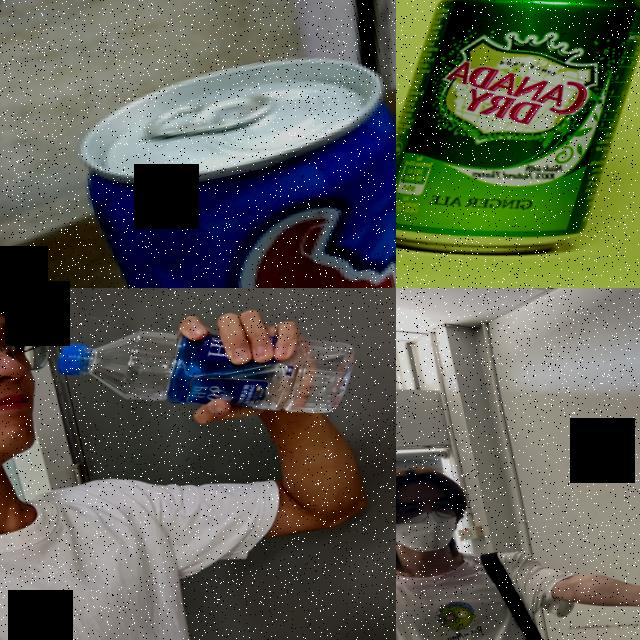bottle: (47, 288, 368, 469)
can: (63, 34, 396, 288), (396, 0, 640, 288)
